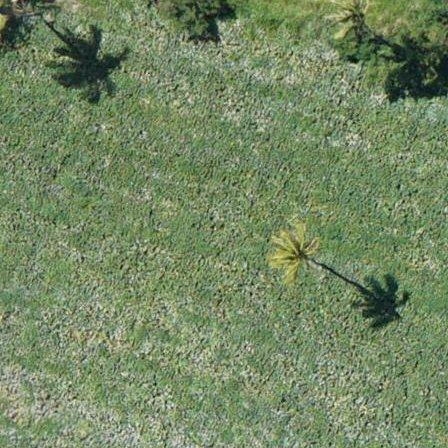palm_tree: (271, 225, 320, 278), (324, 1, 380, 43)
